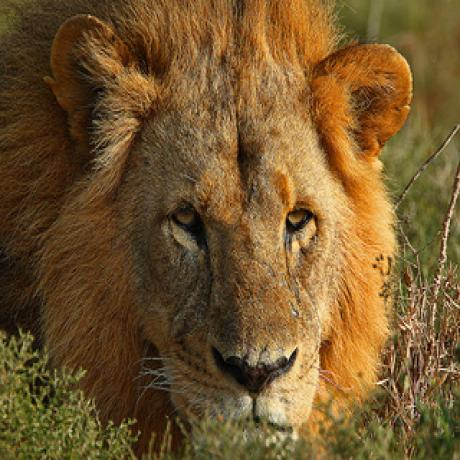Lion: (0, 0, 407, 451)
